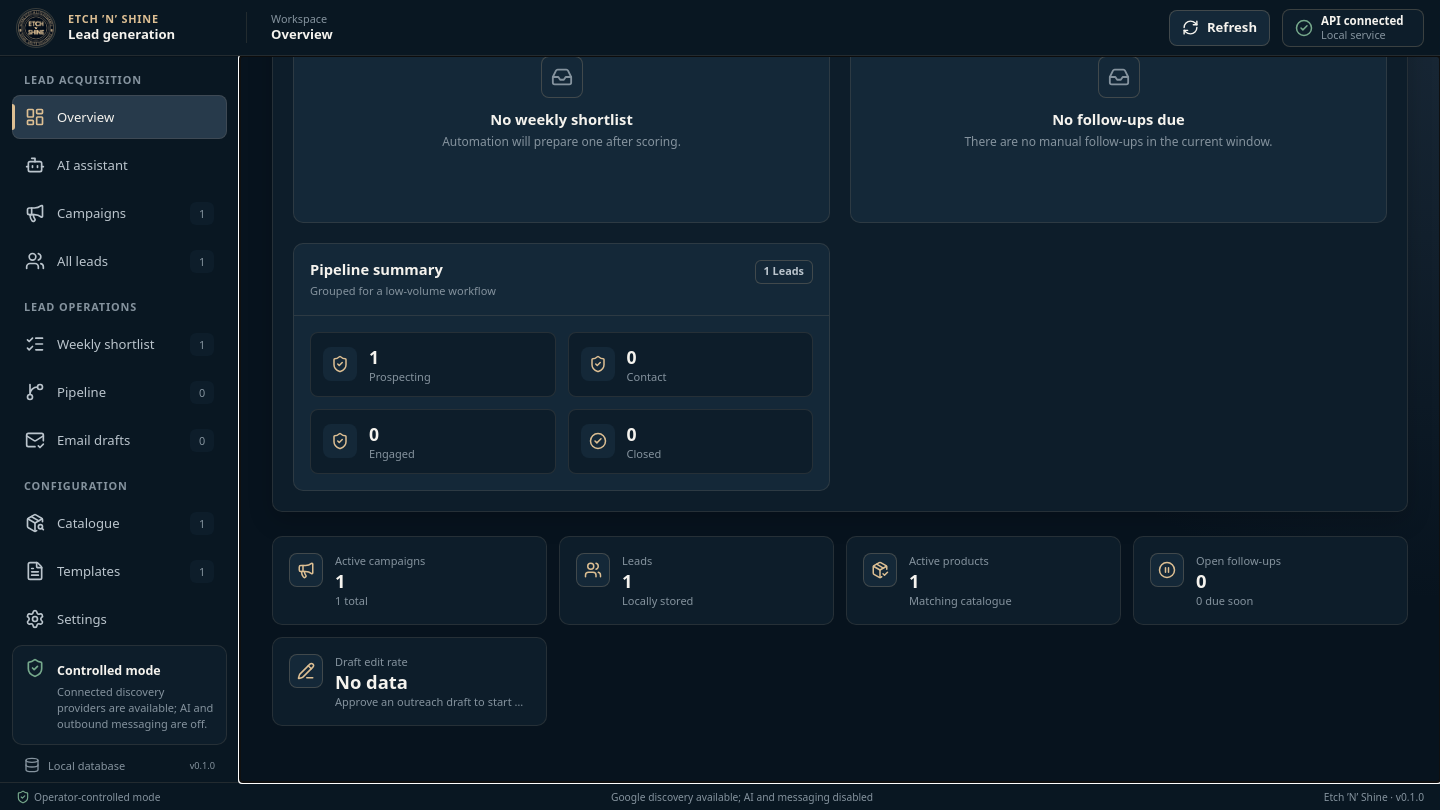
it: local operating workbench › navigates from the Active products card straight to the Catalogue workspace
The image size is (1440, 810).
(page scrolled)
Expected: the text "API connected" is shown, top-left (1321, 14), bottom-right (1404, 28)
Click the button "Active products 1 Matching catalogue" at (880,570), box top-left (846, 536), bottom-right (1121, 625)
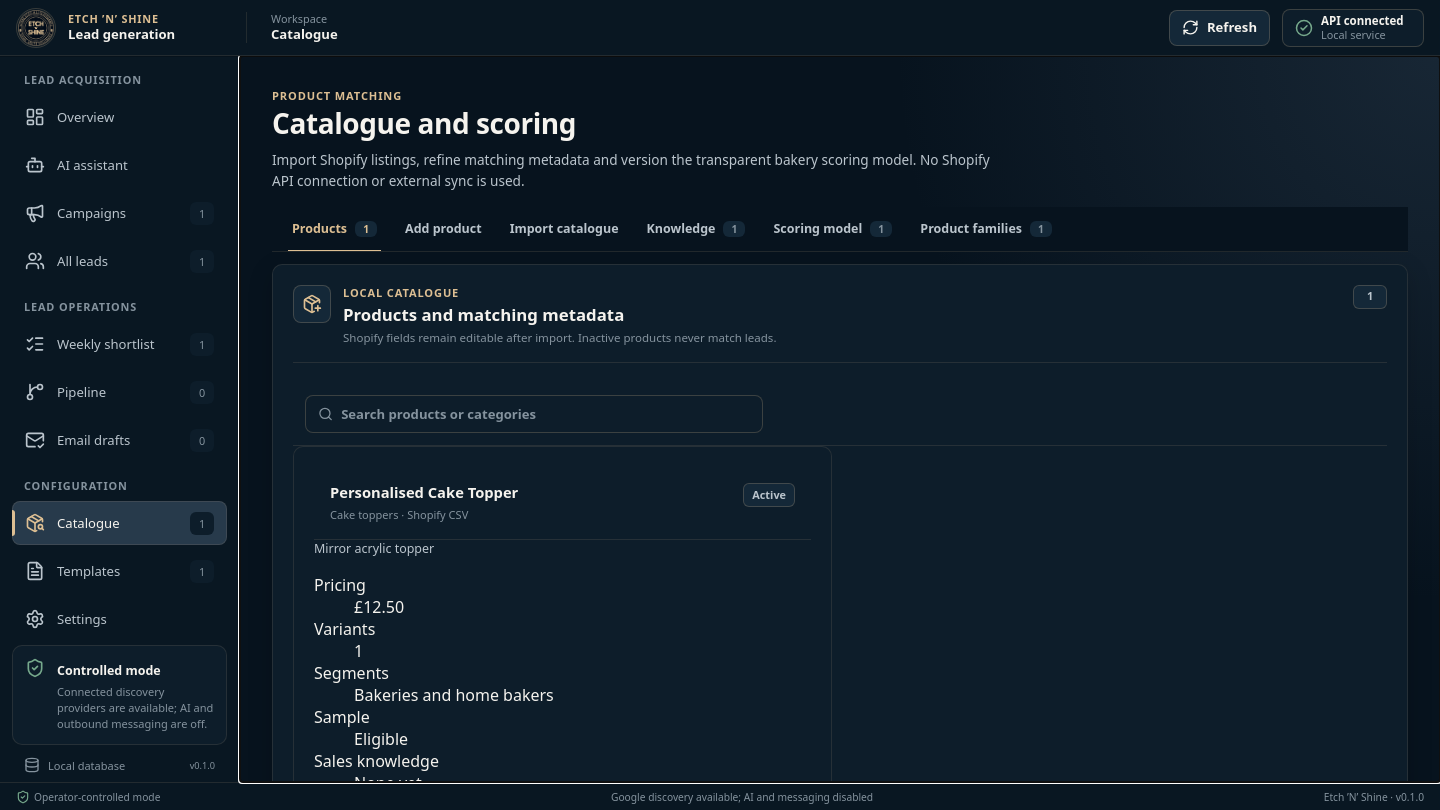
Expected: the heading "Catalogue and scoring" is shown, top-left (272, 104), bottom-right (576, 142)
